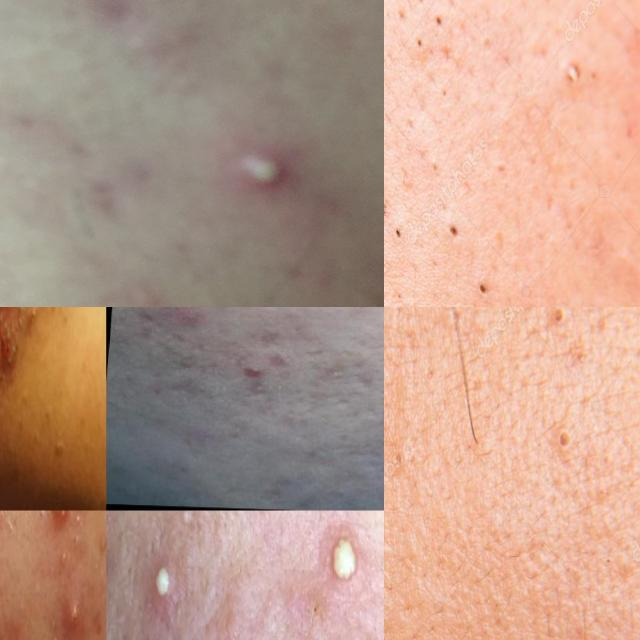acne_scars: (146, 380, 220, 407), (309, 360, 348, 390), (250, 323, 288, 346), (349, 372, 381, 396), (263, 352, 290, 368)
comedone: (473, 271, 496, 307), (237, 362, 269, 379), (446, 223, 462, 241), (395, 220, 403, 246), (384, 199, 390, 231)
folliculitis: (144, 554, 179, 608)
papule: (165, 307, 213, 331)
pustule: (317, 512, 373, 610), (64, 592, 82, 640)
sebo-crystan-conglo: (4, 314, 26, 377), (35, 510, 72, 542)
